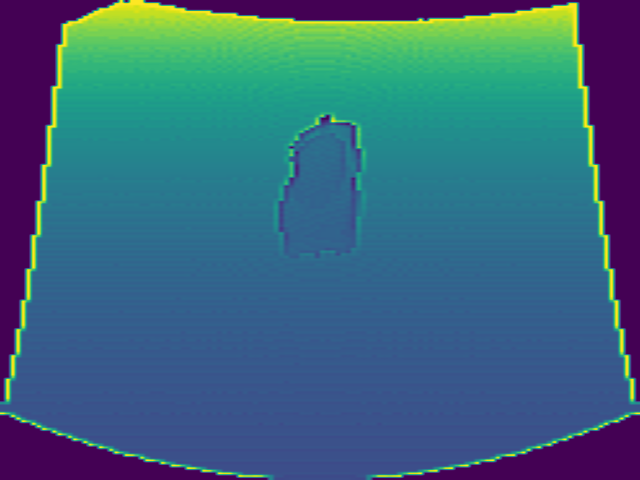car_0027: (268, 114, 367, 257)
